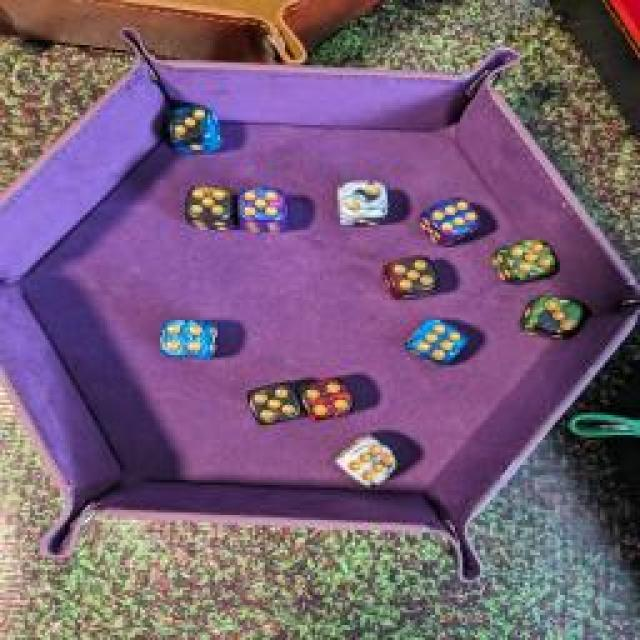dice_2: (330, 176, 395, 229)
dice_3: (508, 292, 590, 342), (160, 108, 232, 158)
dice_4: (152, 315, 226, 363), (298, 373, 364, 425)
dice_5: (490, 231, 562, 284), (376, 250, 446, 300), (231, 184, 294, 234), (245, 374, 305, 426), (179, 181, 236, 229)
dice_6: (329, 429, 401, 486), (404, 312, 474, 368), (417, 193, 485, 245)
